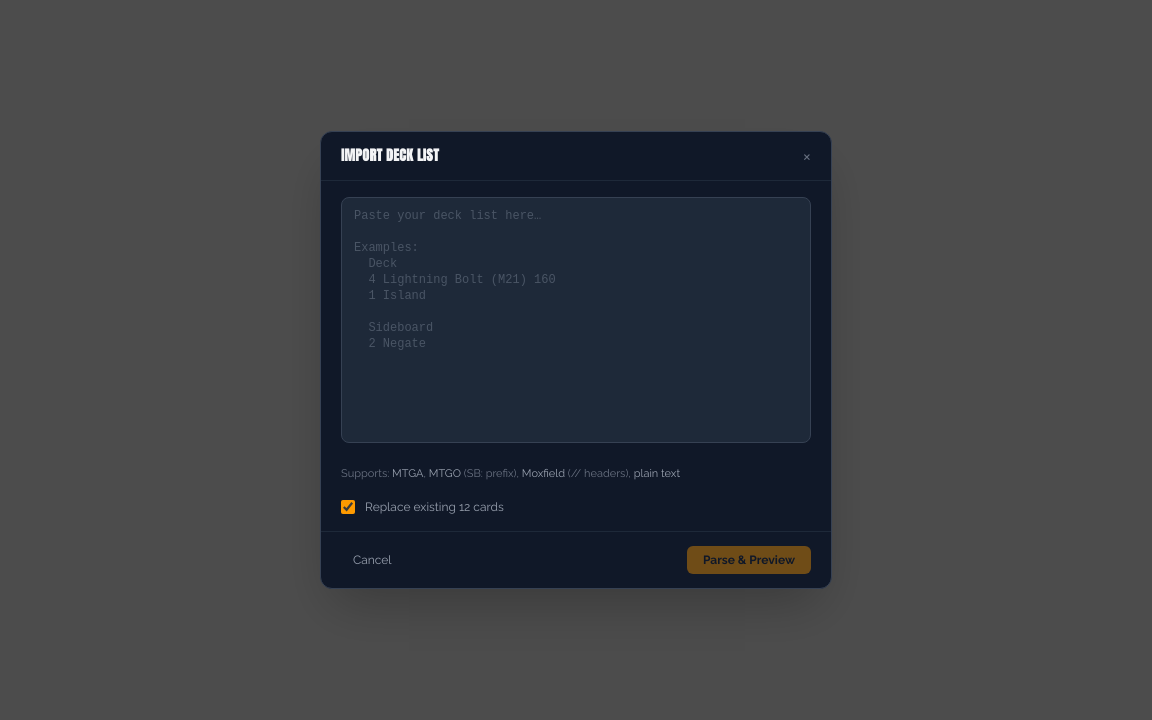
Test case: ImportDeckModal — importing › offers replace only when the deck already has cards
Expected: the text "Replace existing 12 cards" is shown, [365,499,504,515]
Click the checkbox: (348, 507) [341,500,355,514]
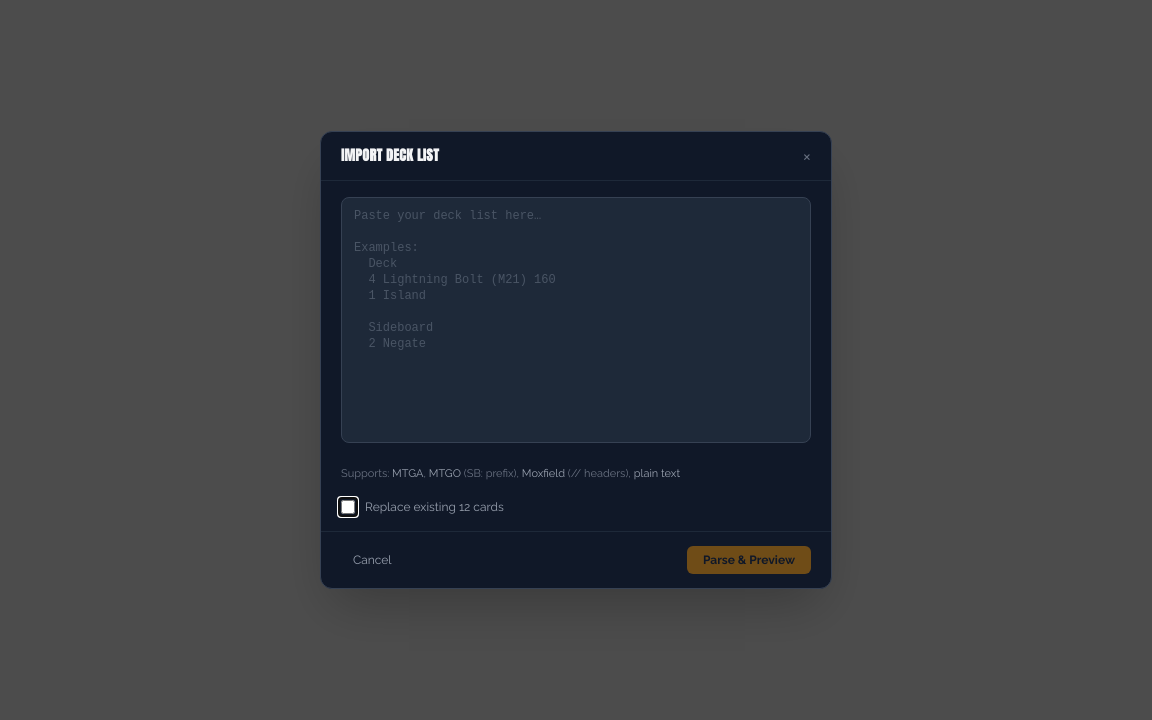
Click the text box: (576, 320) [341,197,811,443]
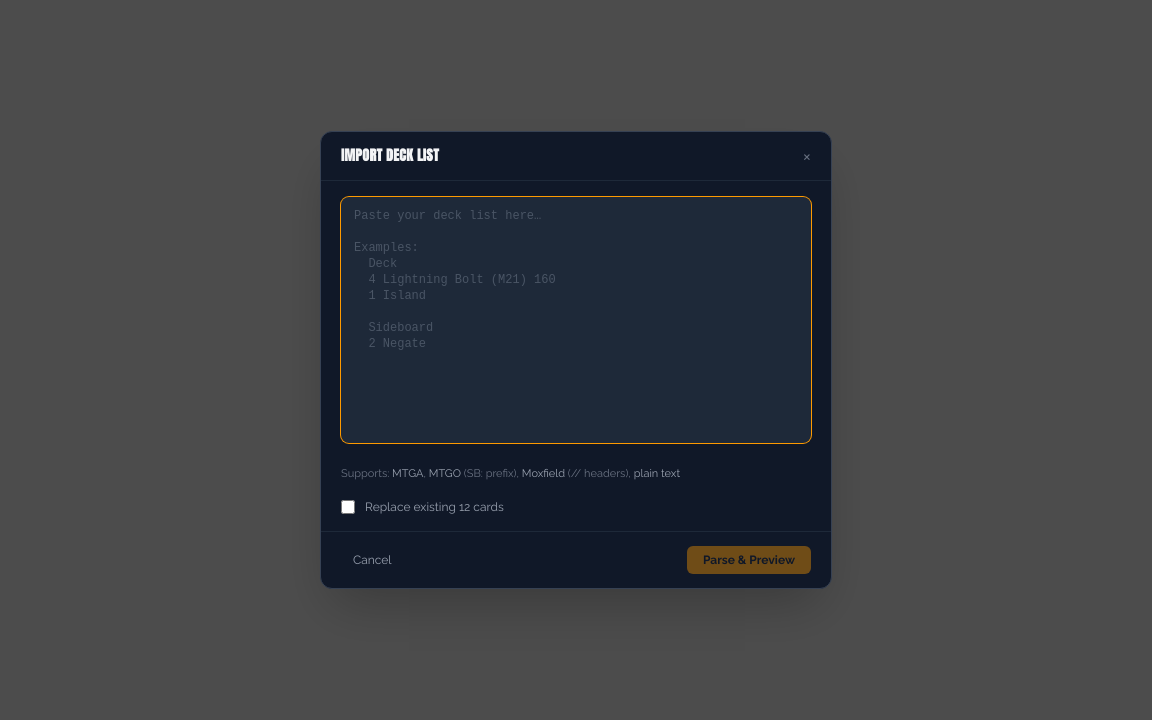
Type keys "1 Llanowar Elves"
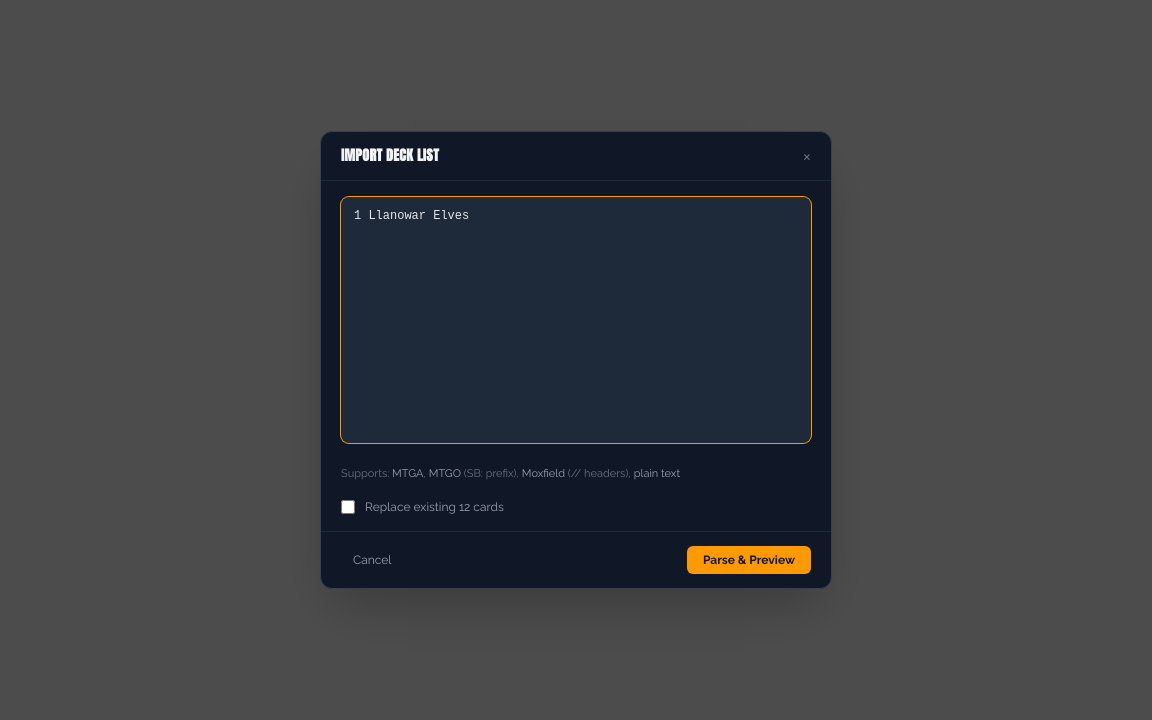
Click the button "Parse & Preview": (749, 560) [687,546,811,574]
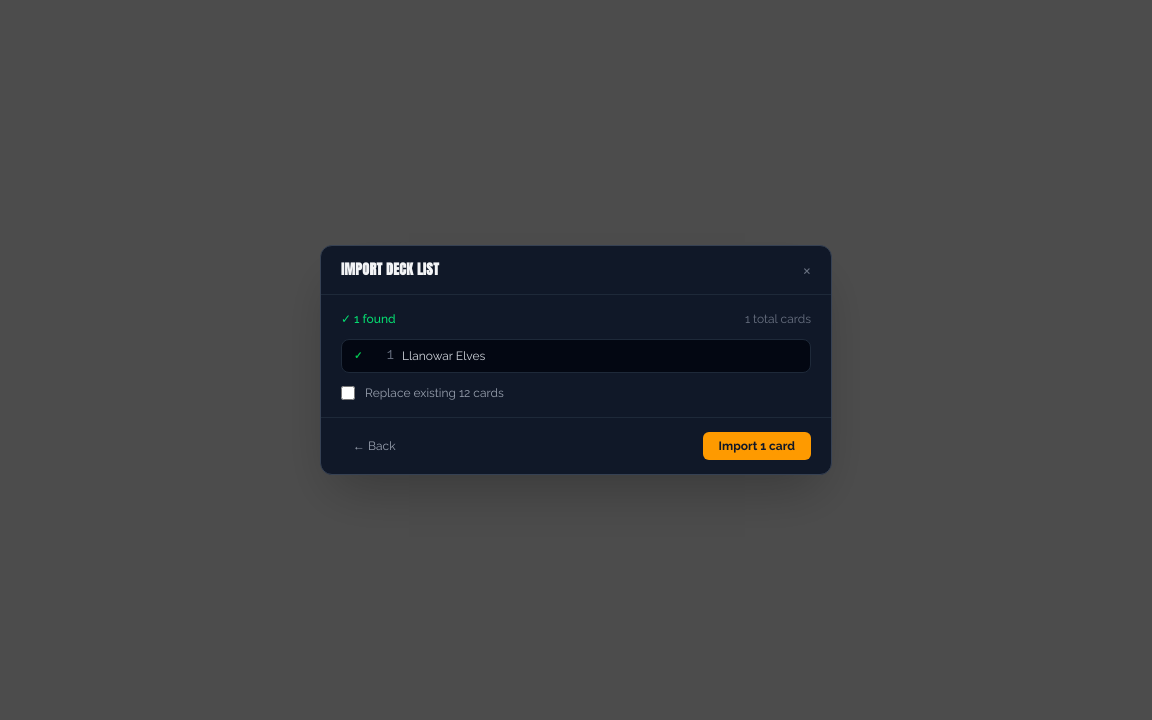
Click the button "Import 1 card": (757, 446) [703,432,811,460]
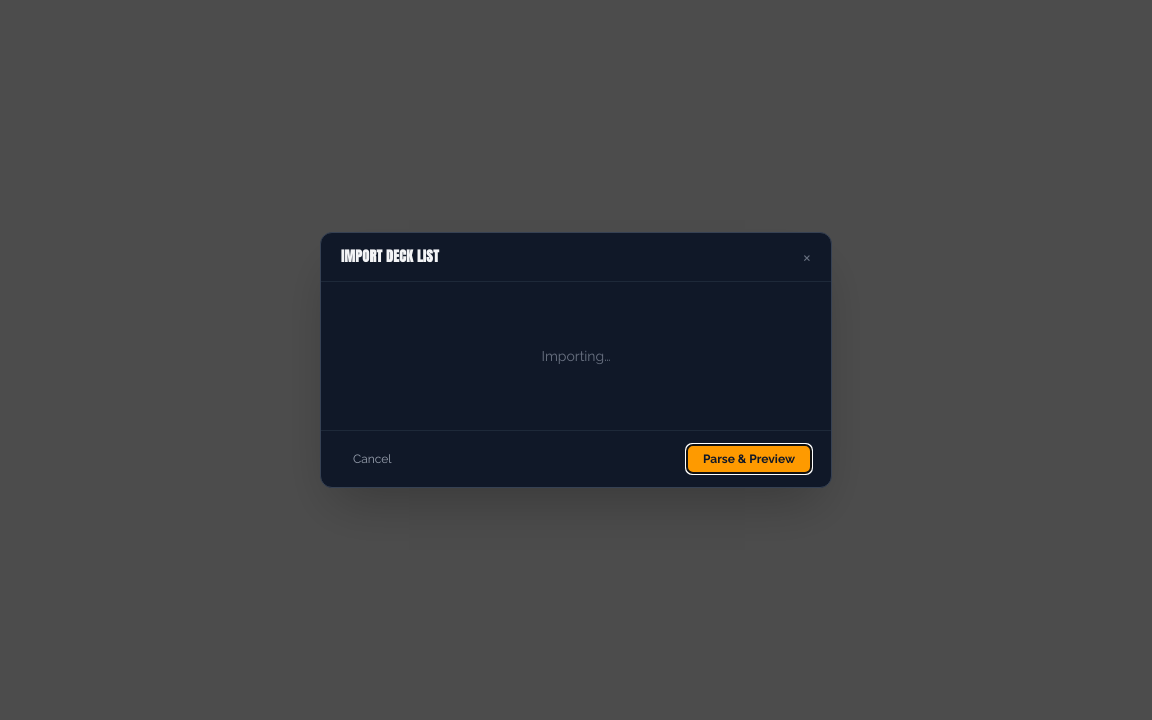
Result: the text "Importing…" is shown at [541,348,611,364]
